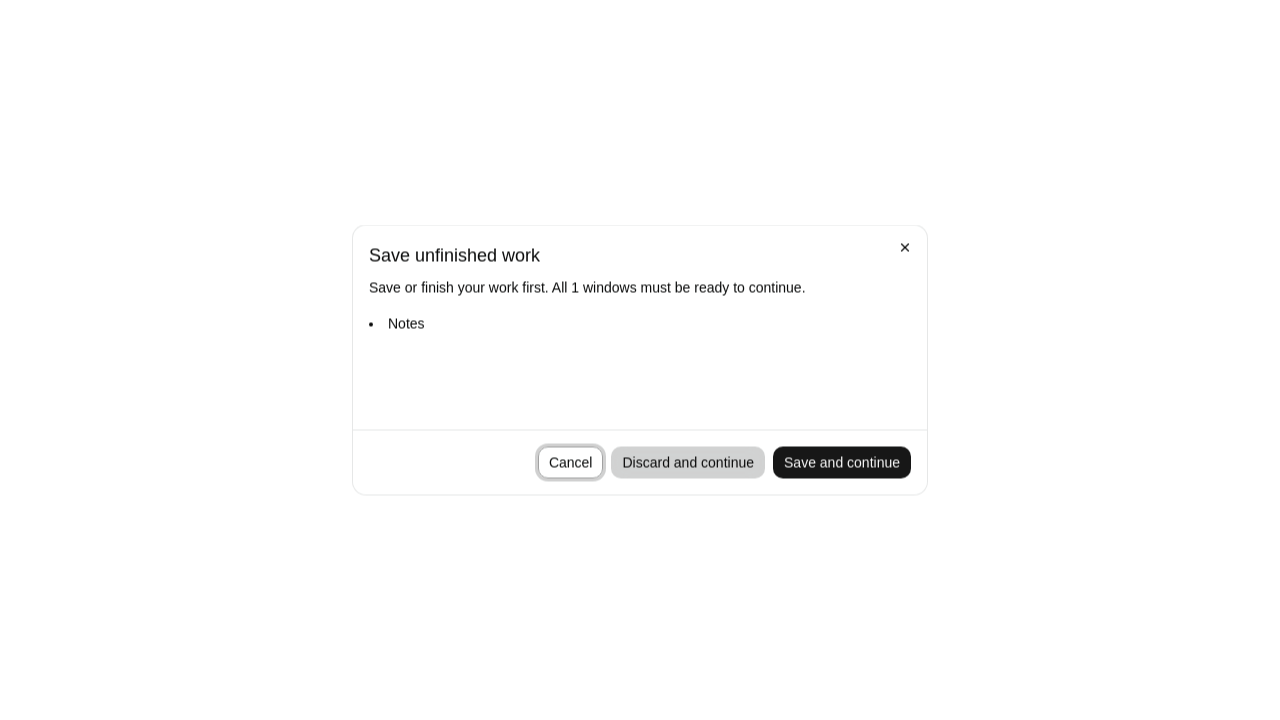
Scenario: unsaved work lifecycle › translates structured native failures while retaining unsaved work
Click the button "Save and continue".
click(842, 462)  # box [773,446,911,478]
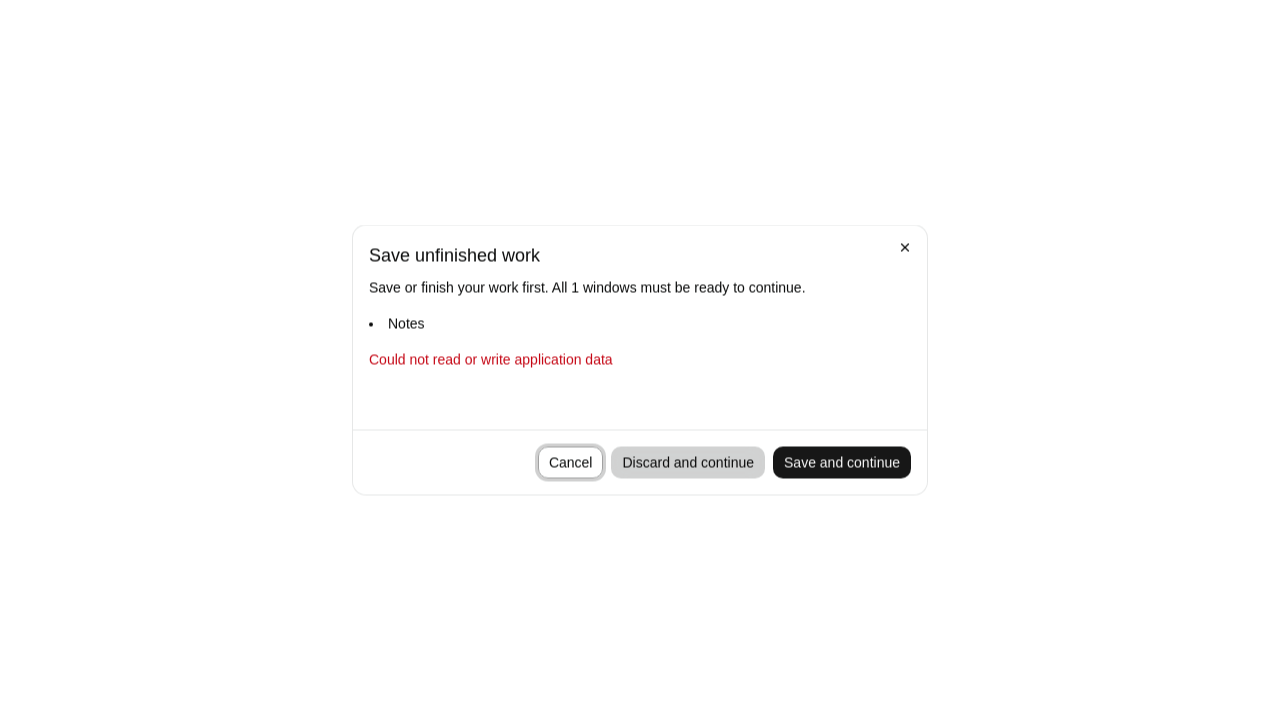
Check: the dialog shows "Notes", box [388,316,425,332]
Check: the message reads "Could not read or write application data", box [369,352,613,368]
